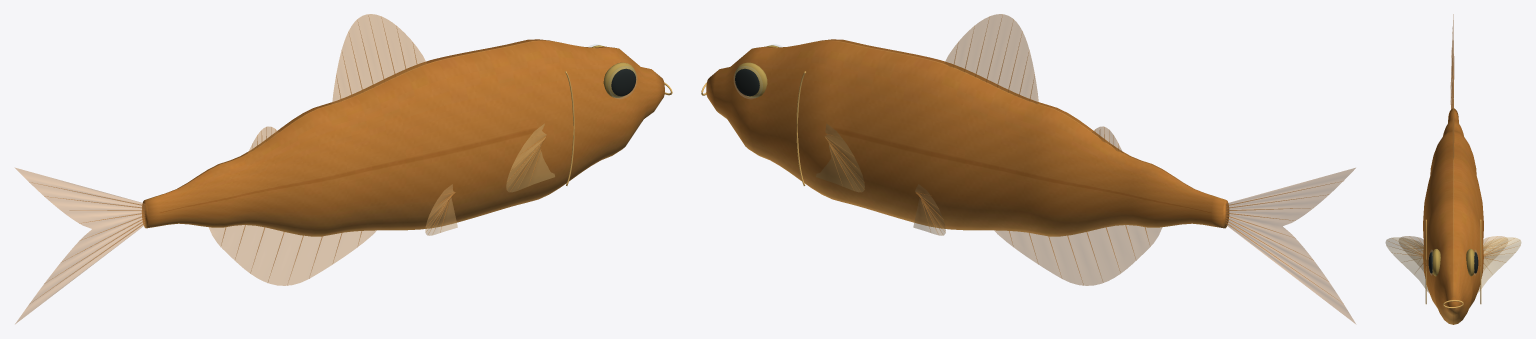
File: ember-mobile.glb
The picture shows the model from 3 angles, left to right: view 1: azimuth 30°, elevation 25°; view 2: azimuth 150°, elevation 25°; view 3: azimuth 270°, elevation 25°; orthographic projection. The views are drawn at different scales.
Visible parts, largest first — view 1: skin, tail, anal, dorsal, dorsal-ray, pectoral-left, pelvic-left, eye-pupil--1; view 2: skin, tail, anal, dorsal, dorsal-ray, pectoral-left, pelvic-left, eye-pupil--1; view 3: skin, pectoral-left, pelvic-left, eye-iris--1, operculum, dorsal-ray, tail, eye-pupil--1, dorsal.
Boxes of the visible parts, left/top/right/bottom form: skin: left=141, top=39, right=664, bottom=236; tail: left=15, top=168, right=145, bottom=323; anal: left=209, top=225, right=376, bottom=285; dorsal: left=248, top=14, right=426, bottom=153; dorsal-ray: left=29, top=16, right=546, bottom=303; pectoral-left: left=506, top=123, right=554, bottom=192; pelvic-left: left=425, top=184, right=457, bottom=235; eye-pupil--1: left=611, top=68, right=635, bottom=96; skin: left=706, top=39, right=1229, bottom=236; tail: left=1225, top=168, right=1355, bottom=323; anal: left=994, top=225, right=1162, bottom=285; dorsal: left=944, top=14, right=1122, bottom=152; dorsal-ray: left=825, top=14, right=1338, bottom=299; pectoral-left: left=816, top=123, right=864, bottom=192; pelvic-left: left=913, top=184, right=945, bottom=235; eye-pupil--1: left=735, top=68, right=759, bottom=96; skin: left=1423, top=108, right=1483, bottom=324; pectoral-left: left=1385, top=237, right=1521, bottom=292; pelvic-left: left=1399, top=236, right=1507, bottom=271; eye-iris--1: left=1432, top=249, right=1474, bottom=276; operculum: left=1425, top=219, right=1481, bottom=308; dorsal-ray: left=1389, top=32, right=1514, bottom=271; tail: left=1450, top=14, right=1454, bottom=109; eye-pupil--1: left=1428, top=252, right=1478, bottom=273; dorsal: left=1452, top=89, right=1454, bottom=159.
Bounding box in the file's own units: 0.5972 × 0.2213 × 0.1473.
11 materials, 1 textured.
